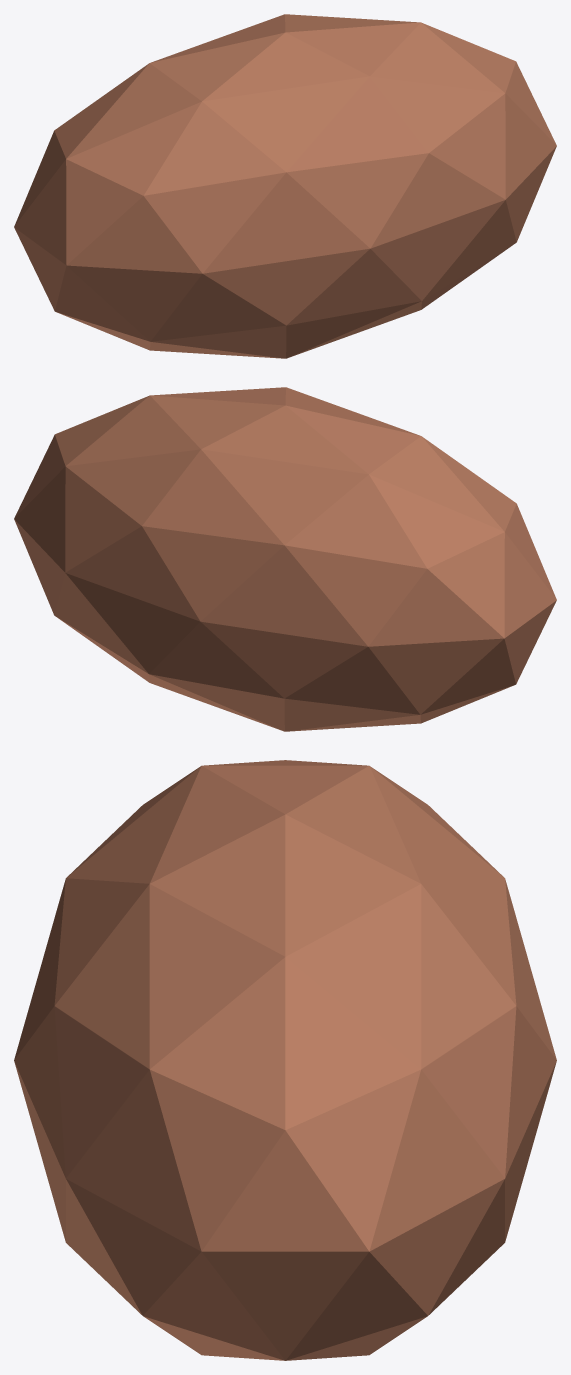
Rendered from PowerUpContainer.fbx.
3 views of the same model, one above another, from view 1: azimuth 30°, elevation 25°; view 2: azimuth 150°, elevation 25°; view 3: azimuth 270°, elevation 25° (orthographic). The views are drawn at different scales.
Visible parts, largest first — view 1: PowerUpContainer.001; view 2: PowerUpContainer.001; view 3: PowerUpContainer.001.
Part boxes in pixels (left/top/right/bottom): PowerUpContainer.001: left=14, top=14, right=556, bottom=358; PowerUpContainer.001: left=14, top=387, right=556, bottom=731; PowerUpContainer.001: left=14, top=760, right=556, bottom=1360.
Size of the model in its own units: 100 by 60 by 60.
